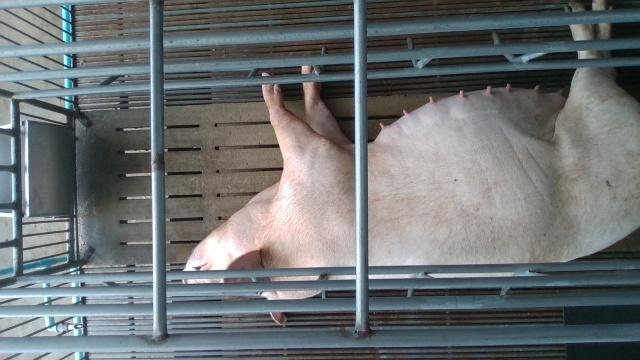sow-sleep-lactate: (182, 0, 640, 325)
